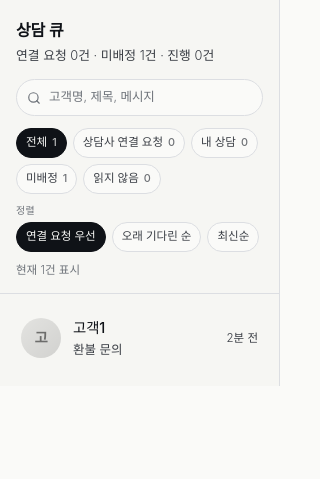
it: QueuePanel › 상담사 연결 요청 필터 결과가 없으면 연결 요청 빈 상태를 표시한다
Click the button "상담사 연결 요청 0": (129, 143) [73,128,185,158]
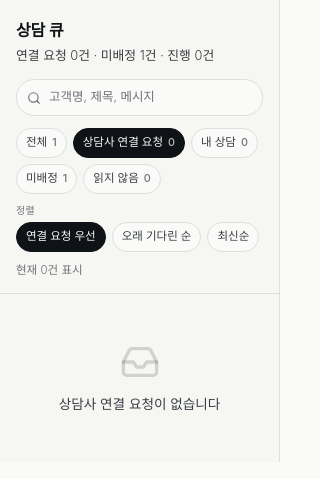
Expected: the text "상담사 연결 요청이 없습니다" is shown, [59,394,220,414]
